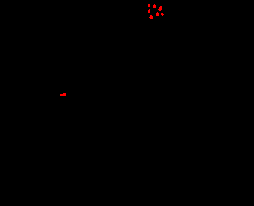Target: (158, 6, 162, 11), (60, 93, 66, 96), (149, 15, 153, 19), (153, 4, 156, 8), (156, 12, 159, 16), (161, 13, 164, 16), (148, 9, 150, 13), (148, 4, 150, 7)
